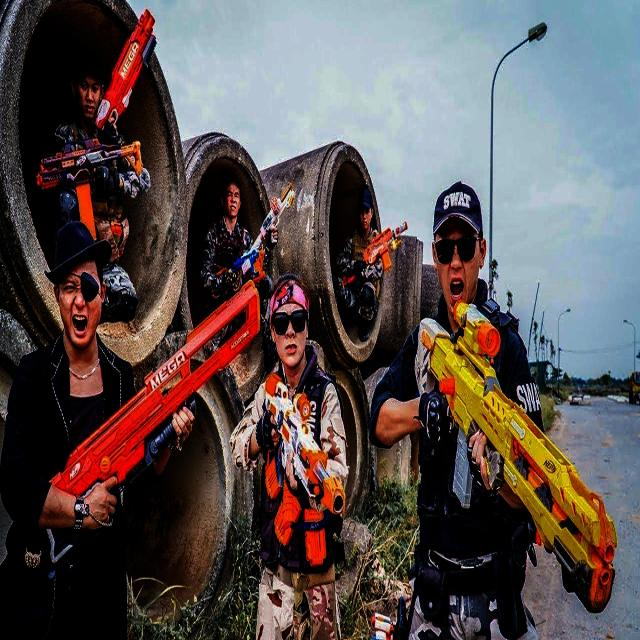Nerf gun: (409, 304, 618, 618), (42, 283, 262, 569), (257, 372, 343, 567), (31, 129, 154, 244), (93, 6, 159, 145), (332, 214, 406, 296), (247, 181, 295, 249), (209, 243, 267, 294)
